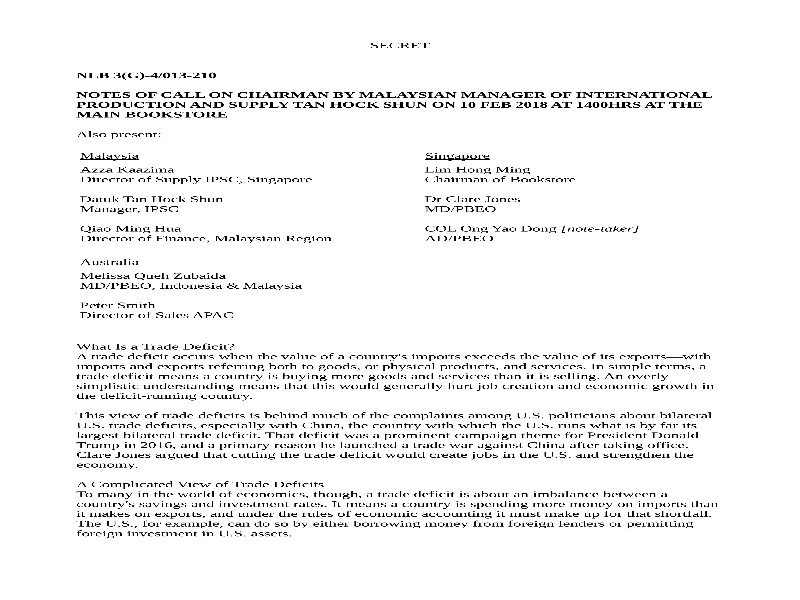borderless: (71, 145, 644, 323)
cell: (424, 219, 642, 250), (78, 222, 334, 246), (78, 271, 306, 295), (78, 166, 316, 186), (78, 192, 228, 217), (422, 163, 578, 187), (79, 299, 236, 321), (423, 192, 526, 214), (422, 149, 493, 162), (77, 149, 142, 163), (78, 256, 145, 269)
